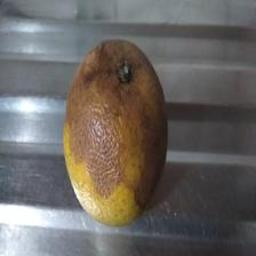Orange Rotten: (58, 38, 190, 219)
